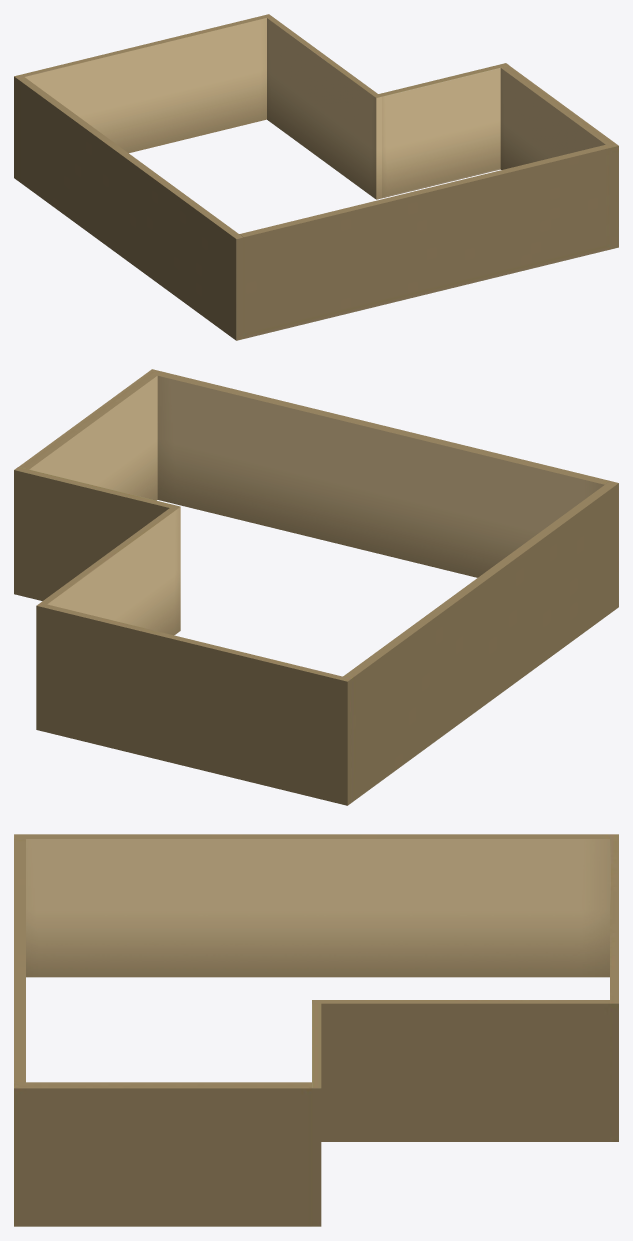
Rendered from walls 1.fbx.
3 renders of one model, top to bottom at view 1: azimuth 30°, elevation 25°; view 2: azimuth 150°, elevation 25°; view 3: azimuth 270°, elevation 25°, orthographic. The views are drawn at different scales.
Visible parts, largest first — view 1: pCube6, pCube15, pCube12, pCube8, pCube10, pCube7; view 2: pCube6, pCube12, pCube15, pCube8, pCube10, pCube7; view 3: pCube15, pCube7, pCube10, pCube6, pCube12, pCube8.
Part boxes in pixels (bbox=[...]): pCube6: bbox=[239, 144, 610, 338]; pCube15: bbox=[17, 77, 243, 340]; pCube12: bbox=[14, 14, 271, 179]; pCube8: bbox=[378, 63, 509, 198]; pCube10: bbox=[267, 16, 381, 199]; pCube7: bbox=[500, 65, 618, 249]; pCube6: bbox=[157, 372, 609, 577]; pCube12: bbox=[36, 603, 351, 805]; pCube15: bbox=[343, 481, 618, 802]; pCube8: bbox=[14, 467, 173, 600]; pCube10: bbox=[41, 505, 180, 635]; pCube7: bbox=[19, 369, 162, 500]; pCube15: bbox=[14, 834, 609, 977]; pCube7: bbox=[14, 1082, 311, 1226]; pCube10: bbox=[312, 1000, 610, 1141]; pCube6: bbox=[14, 839, 25, 1082]; pCube12: bbox=[610, 834, 618, 1141]; pCube8: bbox=[312, 1003, 321, 1226].
Bounding box in the file's own units: 12.09 × 3.07 × 12.17.
